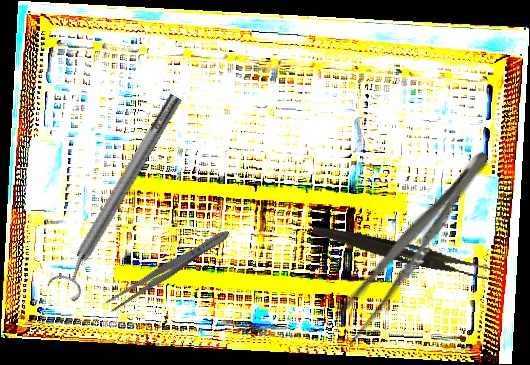Dressing Forceps: (325, 142, 501, 350), (103, 225, 234, 315), (309, 223, 493, 281)
Fixation Ring: (44, 88, 194, 303)
